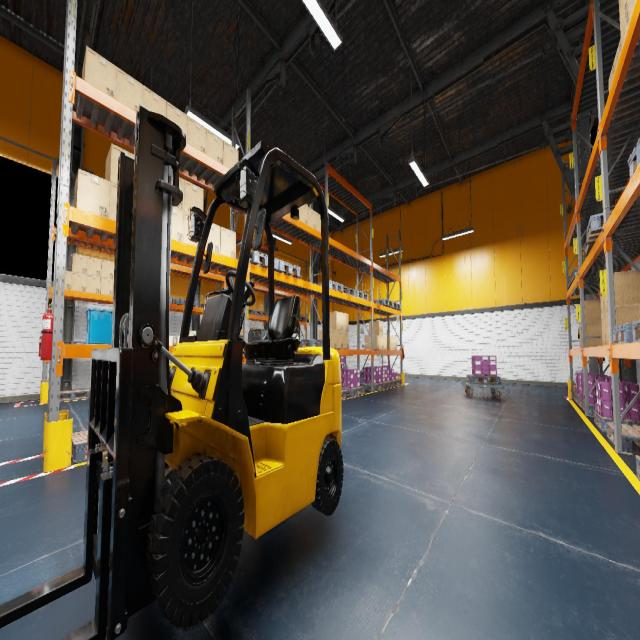box: (74, 168, 110, 218), (82, 46, 116, 98), (604, 270, 640, 311), (115, 67, 143, 111), (105, 143, 134, 184), (166, 101, 188, 142), (187, 115, 206, 154), (143, 85, 166, 116), (184, 180, 203, 214), (206, 128, 223, 164), (580, 299, 601, 325), (615, 304, 640, 325), (220, 226, 236, 258), (184, 211, 198, 246), (171, 207, 184, 242), (205, 223, 220, 253), (585, 322, 602, 347), (223, 140, 238, 168), (173, 174, 184, 211), (318, 329, 336, 348), (71, 253, 87, 274), (621, 10, 629, 51), (619, 0, 628, 36), (71, 272, 87, 292), (109, 182, 117, 220), (86, 274, 100, 294), (87, 256, 101, 276), (329, 311, 343, 330), (100, 277, 114, 295), (101, 259, 114, 278), (614, 38, 621, 73), (365, 334, 379, 350), (369, 320, 383, 334), (628, 0, 636, 24), (608, 62, 614, 92), (308, 207, 316, 229), (601, 312, 606, 345), (299, 204, 307, 224), (64, 270, 72, 290), (605, 310, 609, 345), (387, 336, 397, 349), (600, 282, 604, 314), (316, 212, 321, 232), (337, 330, 342, 349), (343, 313, 348, 331), (343, 331, 348, 349), (290, 208, 298, 219), (172, 336, 180, 345), (379, 334, 383, 350), (383, 336, 387, 350), (579, 326, 581, 348), (188, 331, 196, 336), (169, 336, 173, 345), (241, 326, 243, 338), (192, 268, 200, 271), (581, 327, 582, 346), (174, 264, 183, 266), (628, 0, 630, 8), (578, 328, 579, 338), (240, 331, 240, 337)
forklift: (107, 104, 343, 628)
pallets: (72, 431, 108, 464), (606, 422, 640, 452), (594, 411, 640, 432), (586, 210, 613, 244), (236, 250, 278, 271), (628, 138, 640, 180), (612, 323, 632, 344), (276, 260, 300, 277), (584, 232, 600, 256), (60, 389, 89, 401), (467, 374, 500, 384), (316, 280, 343, 292), (342, 386, 365, 396), (361, 382, 385, 391), (298, 339, 322, 348), (582, 400, 596, 415), (632, 319, 640, 342), (370, 299, 392, 307), (350, 291, 368, 300), (179, 298, 198, 306), (343, 286, 356, 296), (570, 268, 578, 284), (635, 456, 640, 480), (382, 380, 394, 389), (388, 302, 401, 309), (389, 379, 402, 386), (254, 310, 268, 316), (170, 296, 180, 304), (242, 308, 254, 314), (578, 395, 582, 409), (341, 390, 347, 399), (567, 276, 571, 289), (574, 392, 578, 404), (299, 316, 305, 321), (340, 364, 347, 368)
